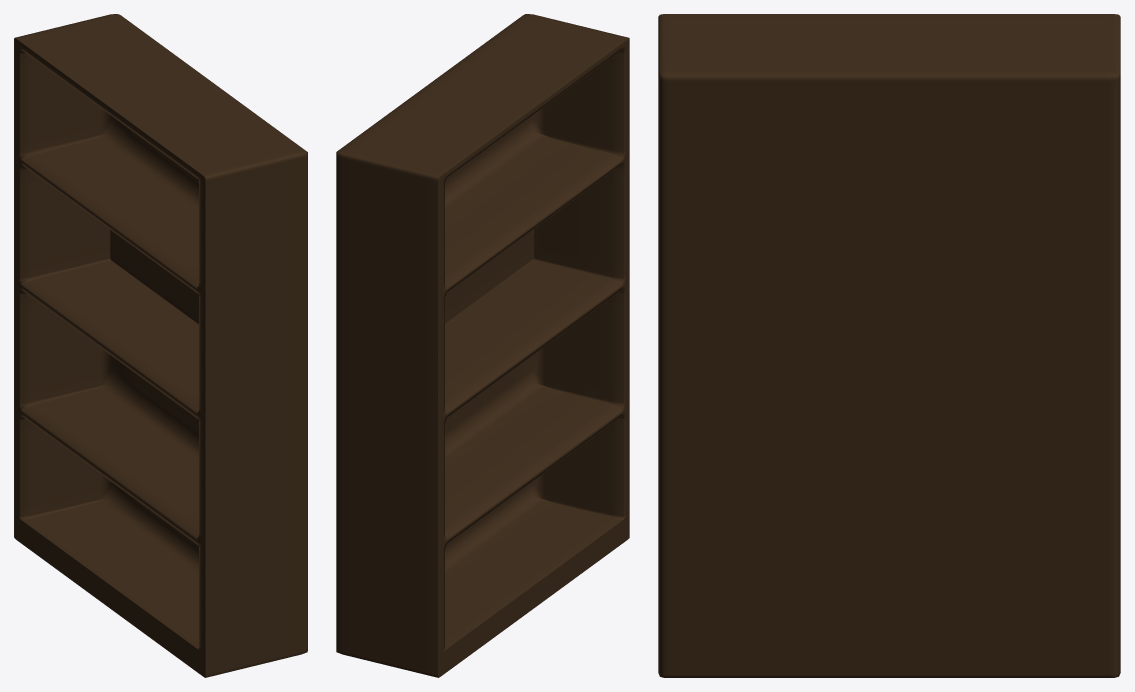
Rendered from Rak1.fbx.
3 views of the same model, side by side, from view 1: azimuth 30°, elevation 25°; view 2: azimuth 150°, elevation 25°; view 3: azimuth 270°, elevation 25° (orthographic). The views are drawn at different scales.
Parts seen in each view (by area): view 1: pCube15; view 2: pCube15; view 3: pCube15.
Boxes of the visible parts, x1,y1,x2,y2 form: pCube15: [14, 14, 307, 677]; pCube15: [336, 14, 629, 677]; pCube15: [658, 14, 1120, 677].
Bounding box in the file's own units: 5.24 × 23.97 × 16.62.
